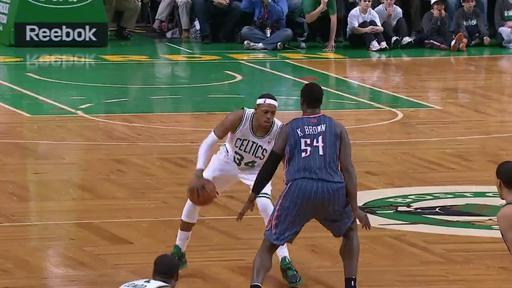ball: (188, 179, 216, 206)
human: (236, 83, 370, 288), (171, 93, 302, 286), (118, 254, 180, 288), (495, 161, 512, 256)
